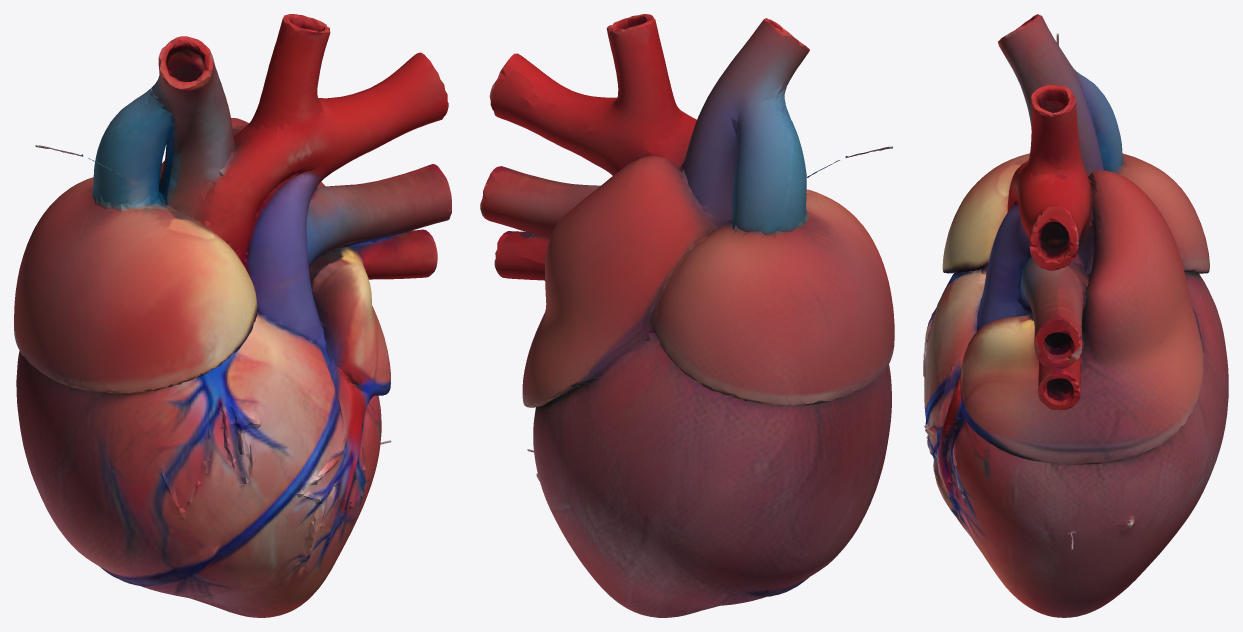
The model's file is horse_heart.glb.
The picture shows the model from 3 angles, left to right: view 1: azimuth 30°, elevation 25°; view 2: azimuth 150°, elevation 25°; view 3: azimuth 270°, elevation 25°; orthographic projection. The views are drawn at different scales.
Parts seen in each view (by area): view 1: model; view 2: model; view 3: model.
Boxes of the visible parts, <box> form: model: <box>14,14,451,617</box>; model: <box>480,14,894,617</box>; model: <box>923,14,1228,617</box>.
Size of the model in its own units: 1.33 by 1.9 by 0.9505.
1 material, 1 textured.
